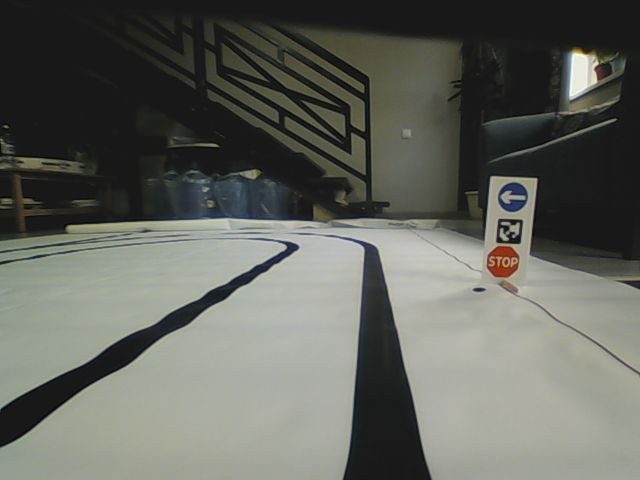Stop: (486, 245, 520, 278)
